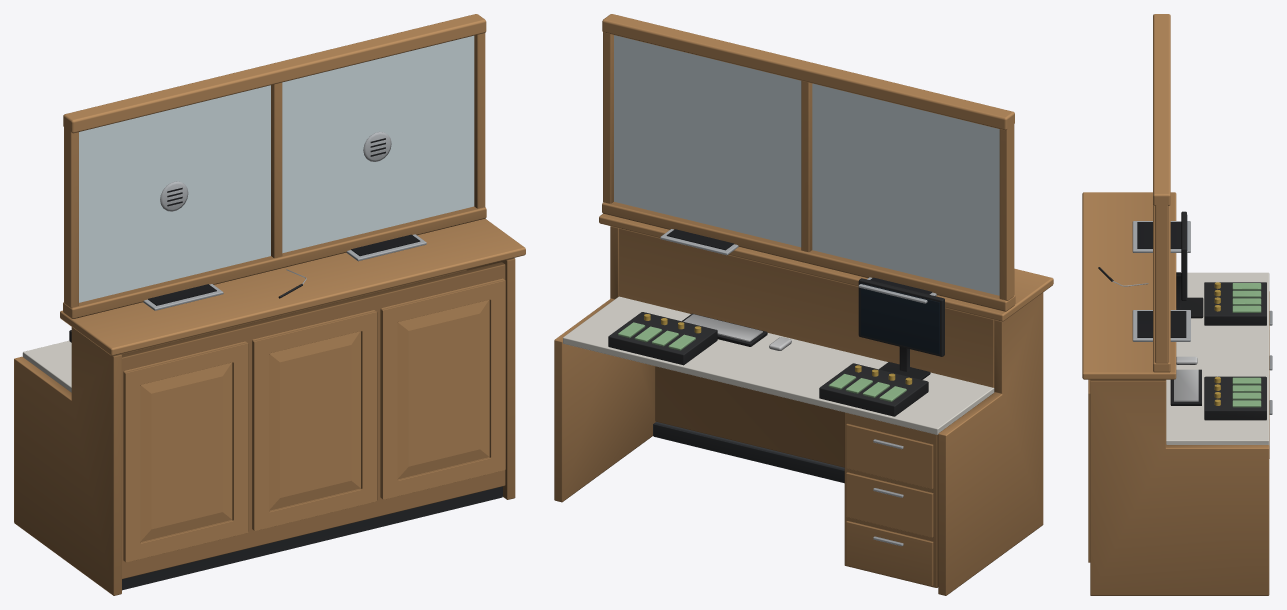
File: tellerCounter.glb
3 views of the same model, side by side, from view 1: azimuth 30°, elevation 25°; view 2: azimuth 150°, elevation 25°; view 3: azimuth 270°, elevation 25° (orthographic). The views are drawn at different scales.
Parts seen in each view (by area): view 1: counter; view 2: counter; view 3: counter.
Part boxes in pixels (x1,y1,x2,y2): counter: (14,14,525,595); counter: (554,14,1053,595); counter: (1082,14,1272,595).
Size of the model in its own units: 1.92 by 2 by 0.85.
